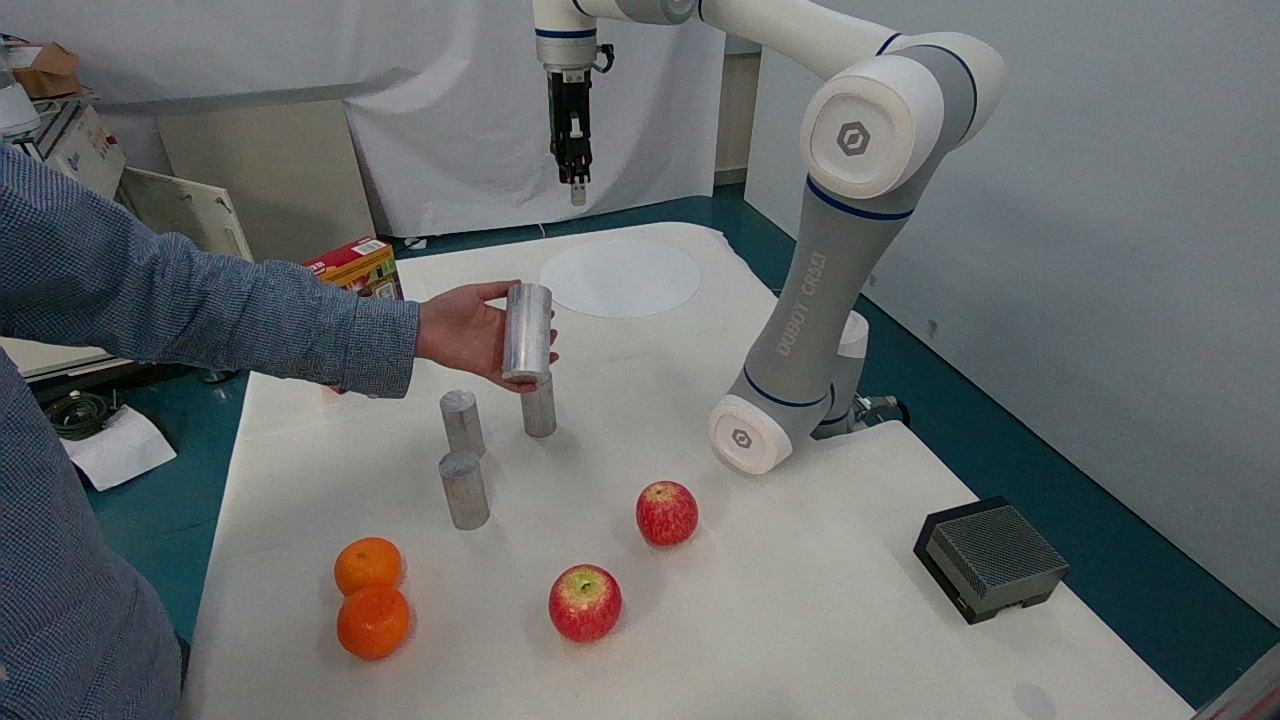apple: (542, 553, 629, 643), (622, 467, 706, 553)
metal rod: (489, 263, 559, 387), (428, 440, 506, 544), (424, 377, 507, 455)
orange: (323, 580, 418, 666), (325, 535, 423, 603)
